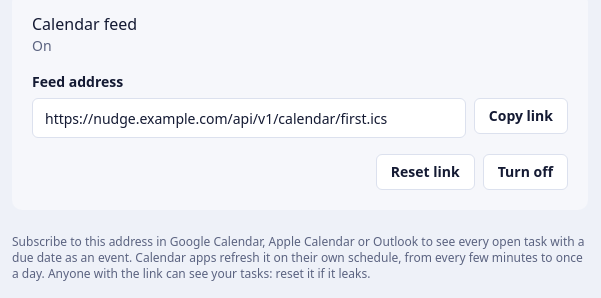
Scenario: CalendarFeedSettings › turns the feed off
Click the button "Turn off" at {"x": 525, "y": 172}, box [483,154,568,190]
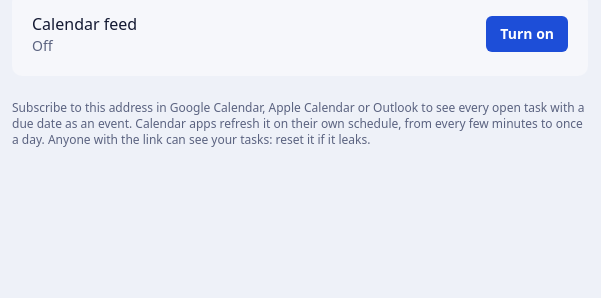
Now the button "Turn on" is shown, box [486,16,568,52]
